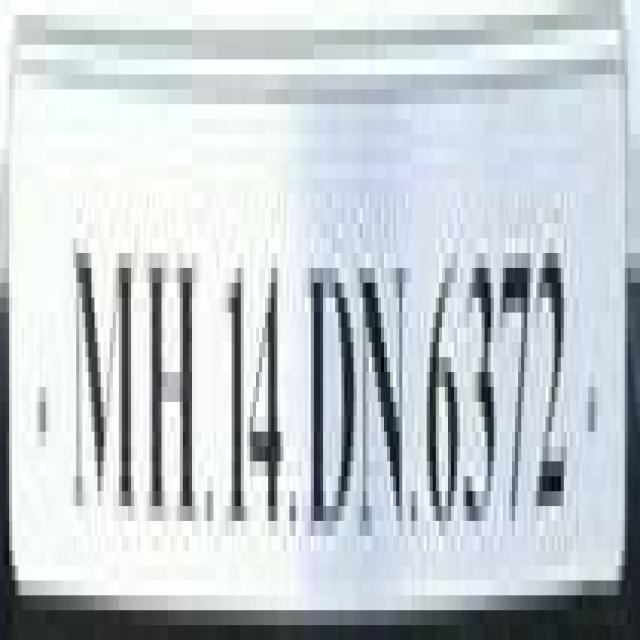license_plate: (3, 44, 606, 640)
